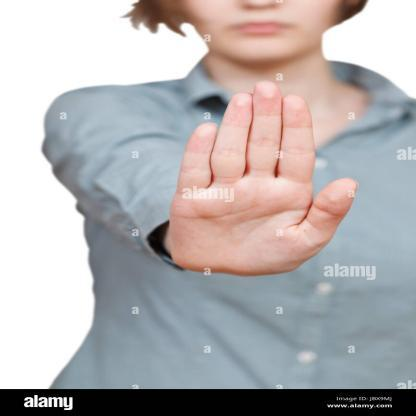stop: (164, 75, 366, 286)
